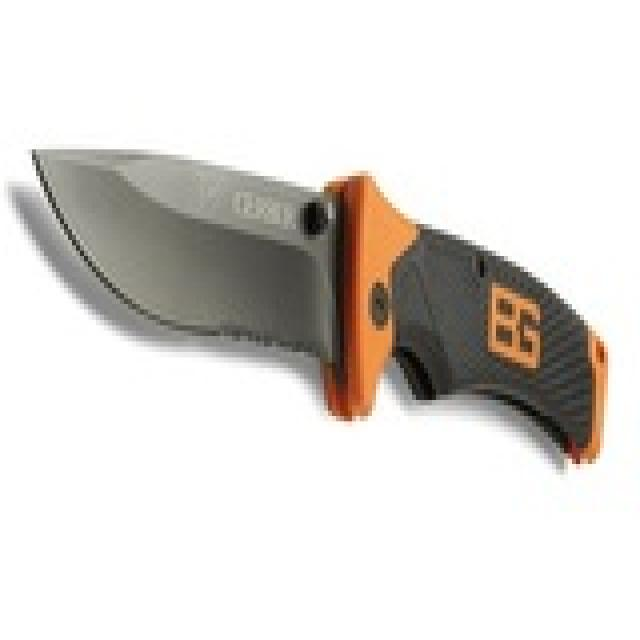Knife: (16, 115, 624, 492)
